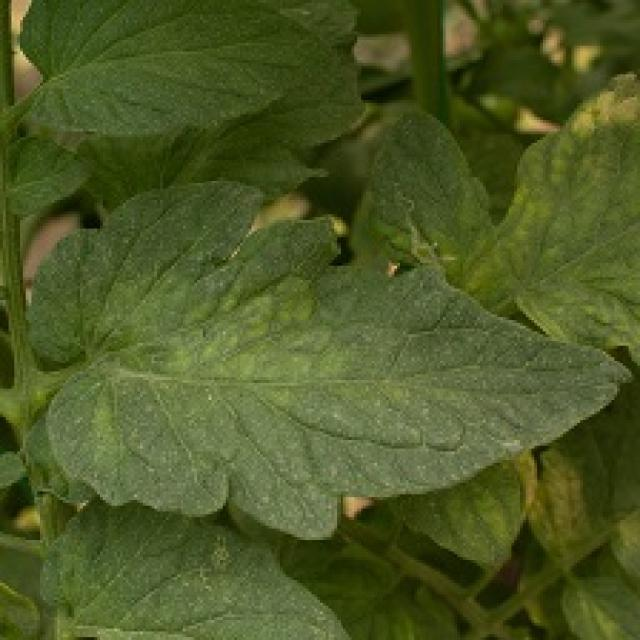Healthy: (0, 125, 634, 640)
